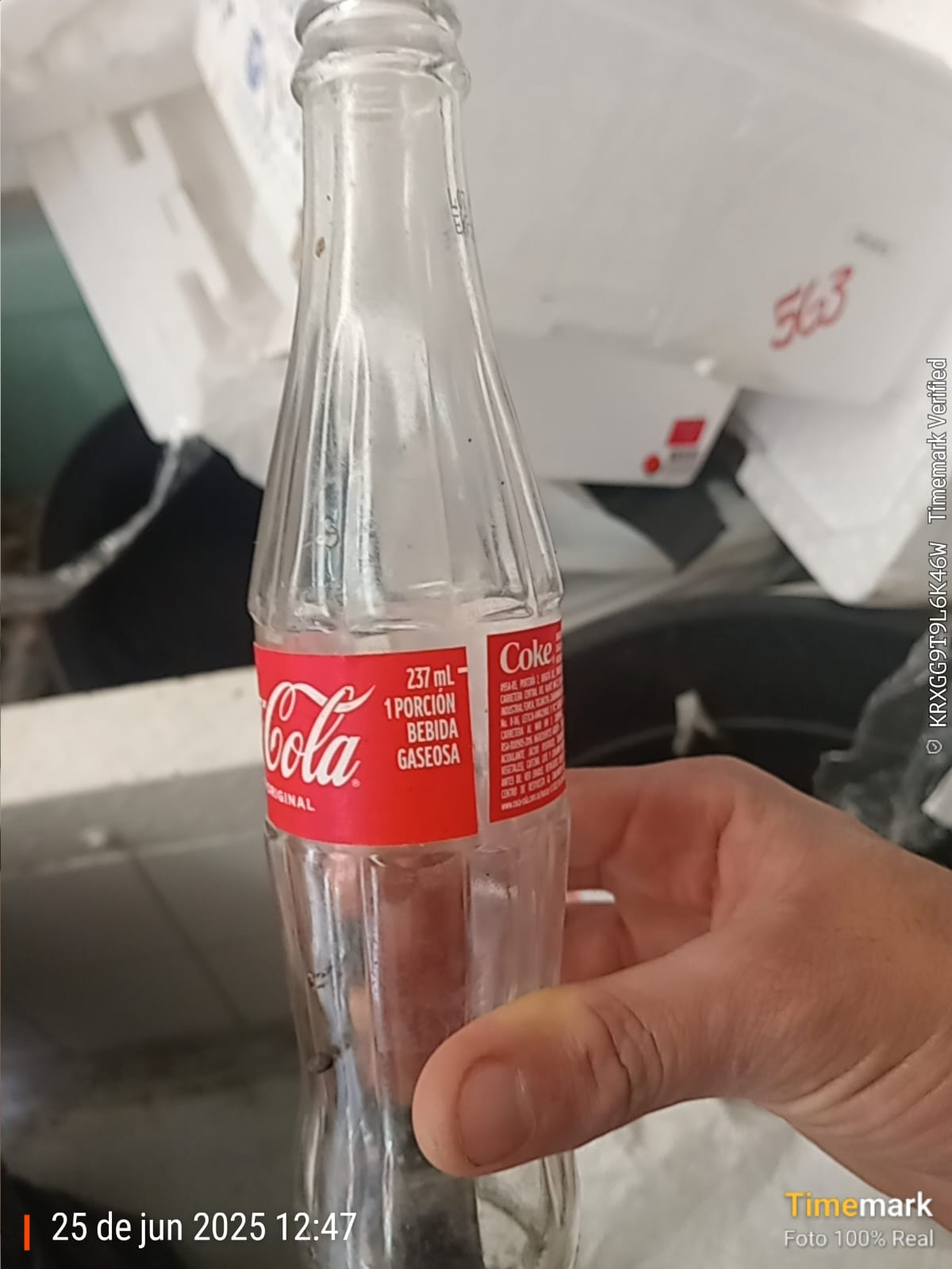Vidrio: (248, 7, 579, 1269)
